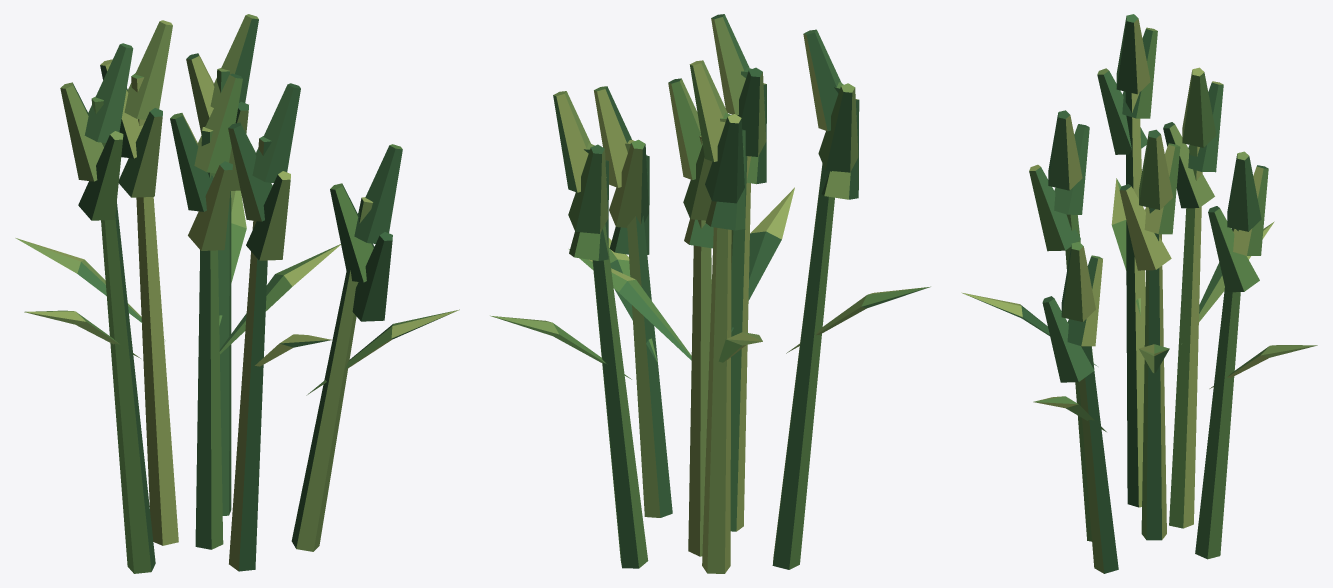
File: farm-wheat-young.glb
3 renders of one model, left to right at view 1: azimuth 30°, elevation 25°; view 2: azimuth 150°, elevation 25°; view 3: azimuth 270°, elevation 25°, orthographic. The views are drawn at different scales.
Parts seen in each view (by area): view 1: farm-wheat-young; view 2: farm-wheat-young; view 3: farm-wheat-young.
Part boxes in pixels (box(x1,y1,x2,y2)): farm-wheat-young: box(15, 14, 459, 573); farm-wheat-young: box(490, 14, 930, 573); farm-wheat-young: box(961, 14, 1317, 573).
Size of the model in its own units: 0.3643 by 0.4754 by 0.3219.
